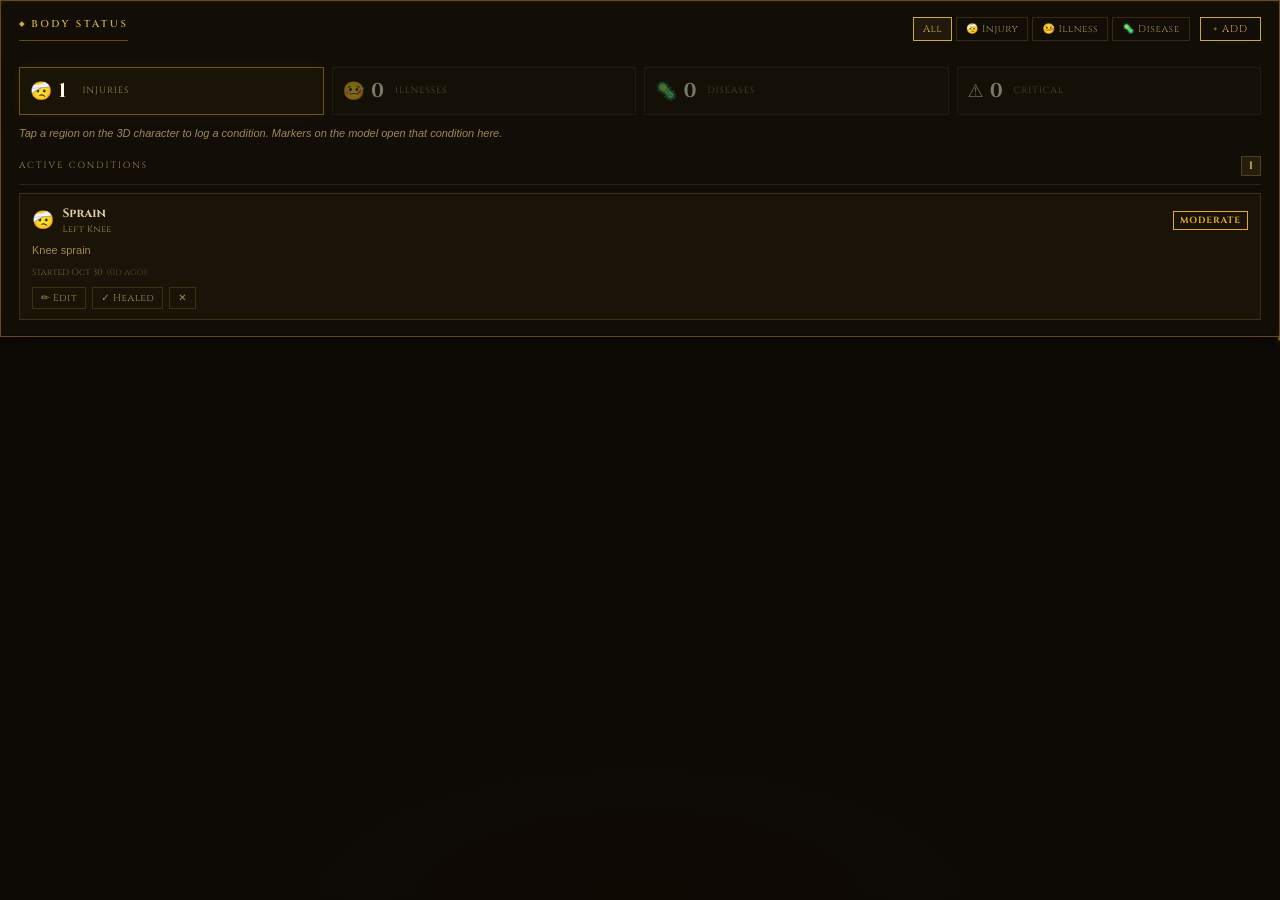
Test: BodyDiagramComponent › condition management › Edit opens the same modal populated from the condition
Click the button with class "bs-act-edit". click: click(59, 298)
box: top-left (32, 287), bottom-right (86, 309)
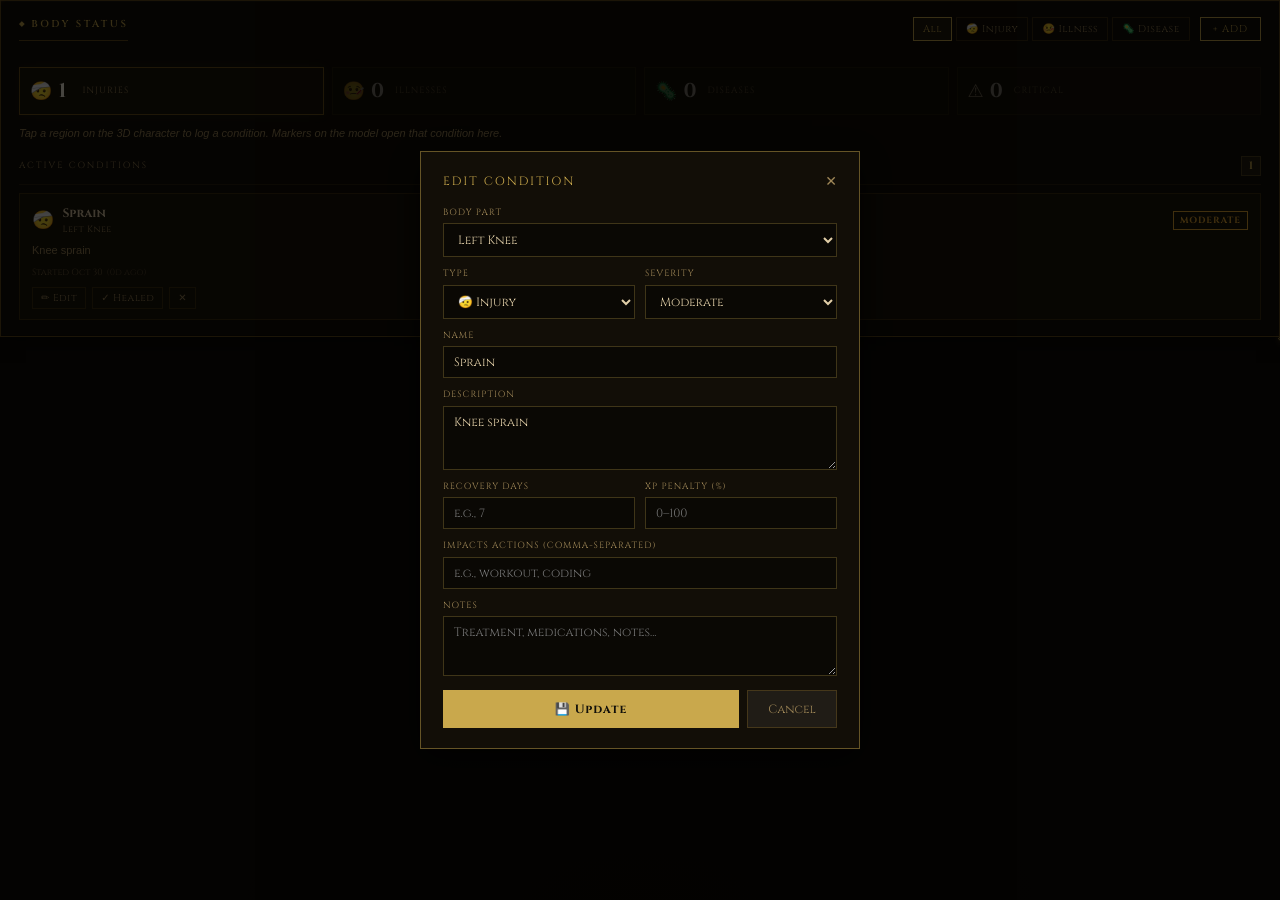
Check: the text "Sprain" is shown, box top-left (62, 205), bottom-right (106, 221)
Check: the text with class "bs-modal-title" reads "EDIT CONDITION", box top-left (443, 173), bottom-right (575, 189)
